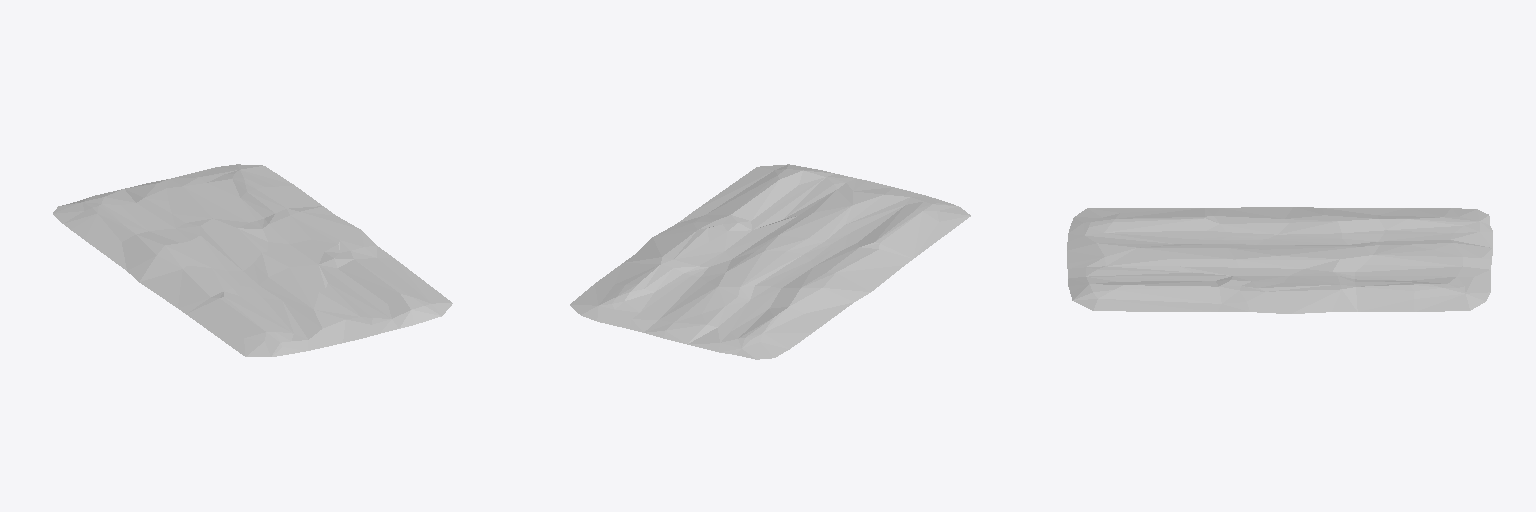
File: SM_Env_Road_Dirt_Straight_01.obj
3 renders of one model, left to right at view 1: azimuth 30°, elevation 25°; view 2: azimuth 150°, elevation 25°; view 3: azimuth 270°, elevation 25°, orthographic.
Parts seen in each view (by area): view 1: SM_Env_Road_Dirt_Straight_01; view 2: SM_Env_Road_Dirt_Straight_01; view 3: SM_Env_Road_Dirt_Straight_01.
Part boxes in pixels (x1,y1,x2,y2): SM_Env_Road_Dirt_Straight_01: (53, 164, 452, 356); SM_Env_Road_Dirt_Straight_01: (570, 164, 970, 359); SM_Env_Road_Dirt_Straight_01: (1067, 207, 1492, 313).
Size of the model in its own units: 7.1 by 0.2733 by 11.91.